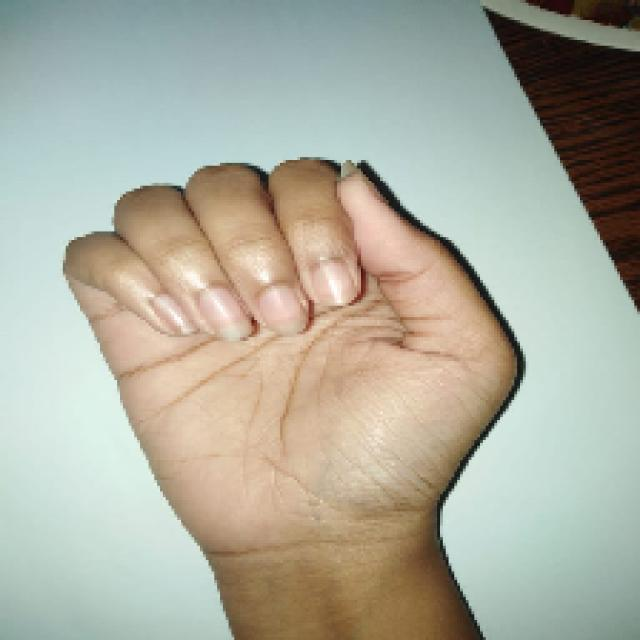Nail: (199, 288, 252, 339), (260, 285, 308, 334), (311, 260, 359, 306), (151, 296, 195, 334)
